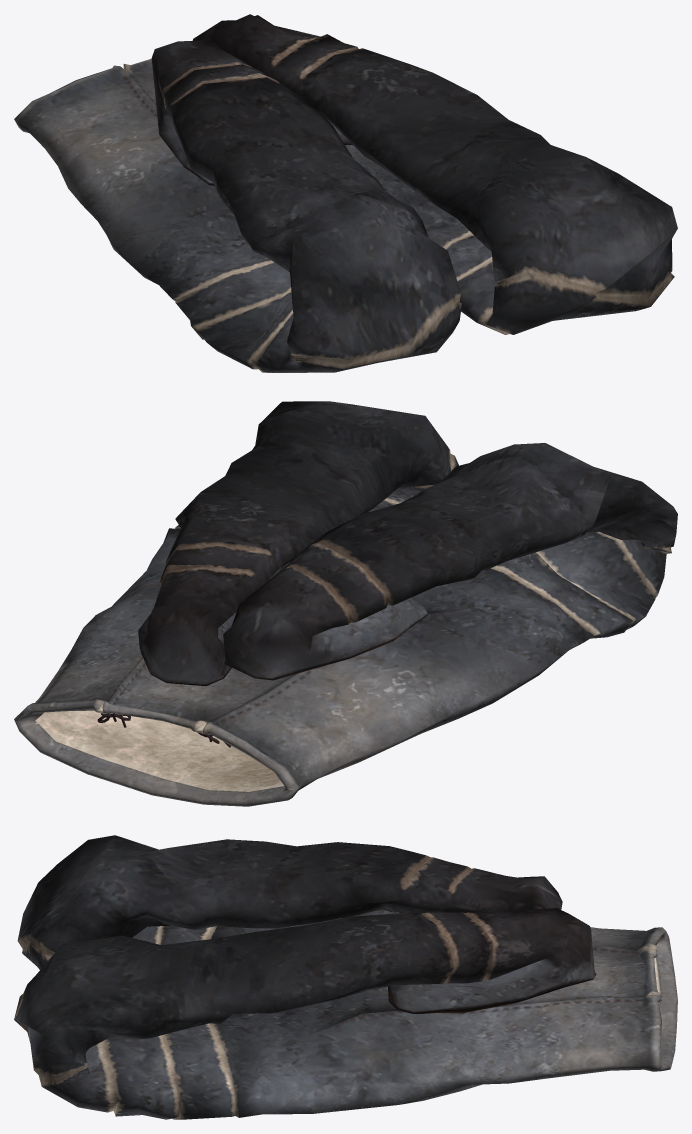
Rendered from bear_pants_folded.fbx.
The picture shows the model from 3 angles, top to bottom: view 1: azimuth 30°, elevation 25°; view 2: azimuth 150°, elevation 25°; view 3: azimuth 270°, elevation 25°; orthographic projection. The views are drawn at different scales.
Parts seen in each view (by area): view 1: bear_pants_collapsed; view 2: bear_pants_collapsed; view 3: bear_pants_collapsed.
Boxes of the visible parts, x1=… form: bear_pants_collapsed: x1=14, y1=14, x2=677, y2=372; bear_pants_collapsed: x1=14, y1=401, x2=677, y2=806; bear_pants_collapsed: x1=14, y1=835, x2=677, y2=1119.
Size of the model in its own units: 45.05 by 16.04 by 62.93.
Materials: 1 (1 with a texture image).
